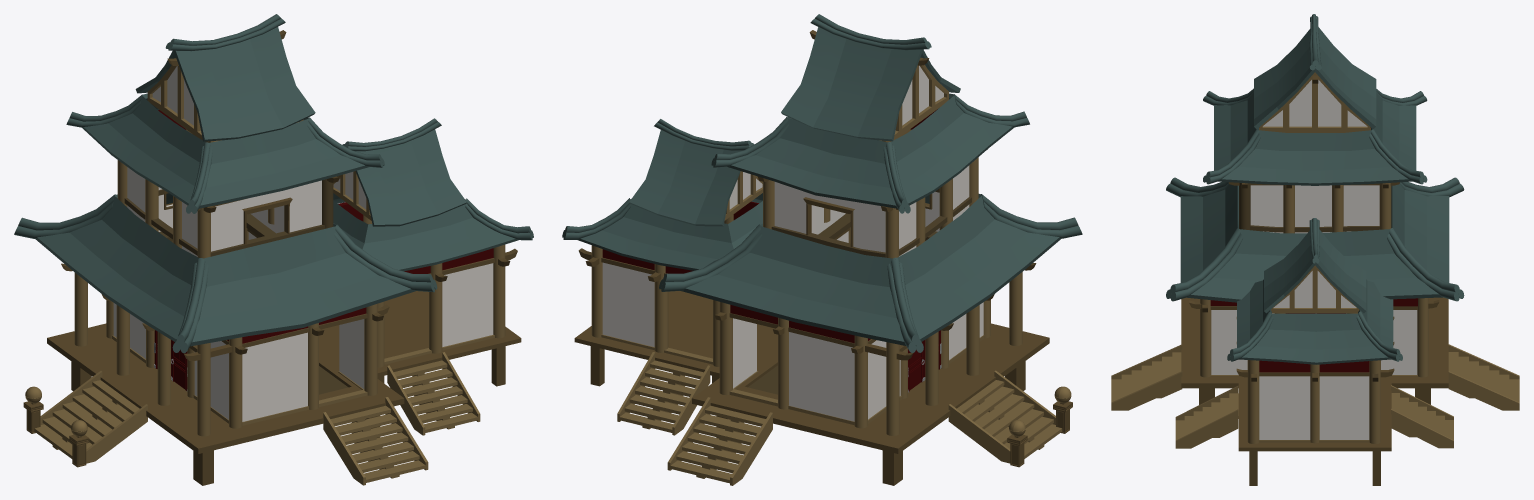
3 views of the same model, side by side, from view 1: azimuth 30°, elevation 25°; view 2: azimuth 150°, elevation 25°; view 3: azimuth 270°, elevation 25° (orthographic). The views are drawn at different scales.
Visible parts, largest first — view 1: LowerRoof, MidRoof, Walls0, Platform, Pillars0, TopRoof, BackRoof, BackRoofLower, StraightStair003_LightWood_0, Flr2Walls, StraightStair001_LightWood_0, Platform1 (+17 smaller); view 2: LowerRoof, MidRoof, Walls0, Platform, Pillars0, TopRoof, BackRoof, BackRoofLower, StraightStair002_LightWood_0, Flr2Walls, StraightStair001_LightWood_0, Platform1 (+15 smaller); view 3: LowerRoof, MidRoof, Walls0, BackRoofLower, TopRoof, Platform, Pillars0, Flr2Walls, Cylinder023, BackRoof, Platform1, StraightStair002_LightWood_0 (+16 smaller).
Boxes of the visible parts, x1,y1,x2,y2 form: LowerRoof: (35, 193, 415, 346); MidRoof: (82, 93, 368, 208); Walls0: (113, 232, 493, 421); Platform: (47, 323, 404, 485); Pillars0: (74, 215, 505, 436); TopRoof: (135, 27, 315, 141); BackRoof: (337, 129, 466, 226); BackRoofLower: (333, 193, 518, 271); StraightStair003_LightWood_0: (323, 397, 428, 485); Flr2Walls: (127, 167, 321, 256); StraightStair001_LightWood_0: (34, 371, 147, 463); Platform1: (319, 291, 521, 386); LowerRoof: (680, 194, 1061, 345); MidRoof: (727, 93, 1014, 208); Walls0: (602, 231, 983, 421); Platform: (692, 323, 1049, 485); Pillars0: (591, 214, 1022, 435); TopRoof: (781, 27, 960, 141); BackRoof: (629, 130, 741, 226); BackRoofLower: (578, 193, 762, 270); StraightStair002_LightWood_0: (667, 397, 772, 485); Flr2Walls: (774, 165, 969, 256); StraightStair001_LightWood_0: (948, 370, 1062, 463); Platform1: (574, 291, 777, 386); LowerRoof: (1180, 184, 1449, 302); MidRoof: (1214, 91, 1416, 185); Walls0: (1211, 310, 1417, 439); BackRoofLower: (1237, 279, 1393, 364); TopRoof: (1254, 27, 1376, 129); Platform: (1181, 297, 1448, 404); Pillars0: (1200, 298, 1428, 443); Flr2Walls: (1250, 185, 1379, 233); Cylinder023: (1166, 177, 1464, 301); BackRoof: (1264, 229, 1366, 313); Platform1: (1238, 383, 1391, 485); StraightStair002_LightWood_0: (1448, 344, 1519, 410).
Bounding box in the file's own units: 3.6 × 3.06 × 3.29.
